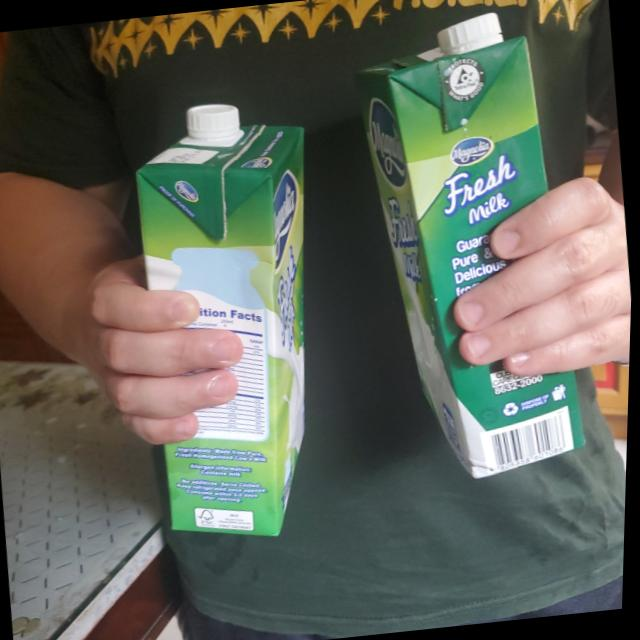milk: (344, 6, 600, 492), (117, 92, 348, 558)
